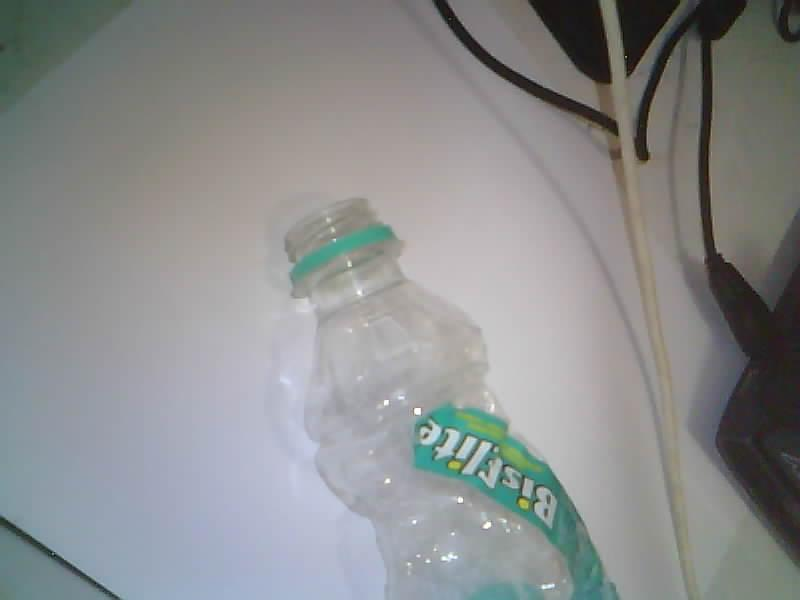non-biodegradable: (286, 202, 616, 599)
